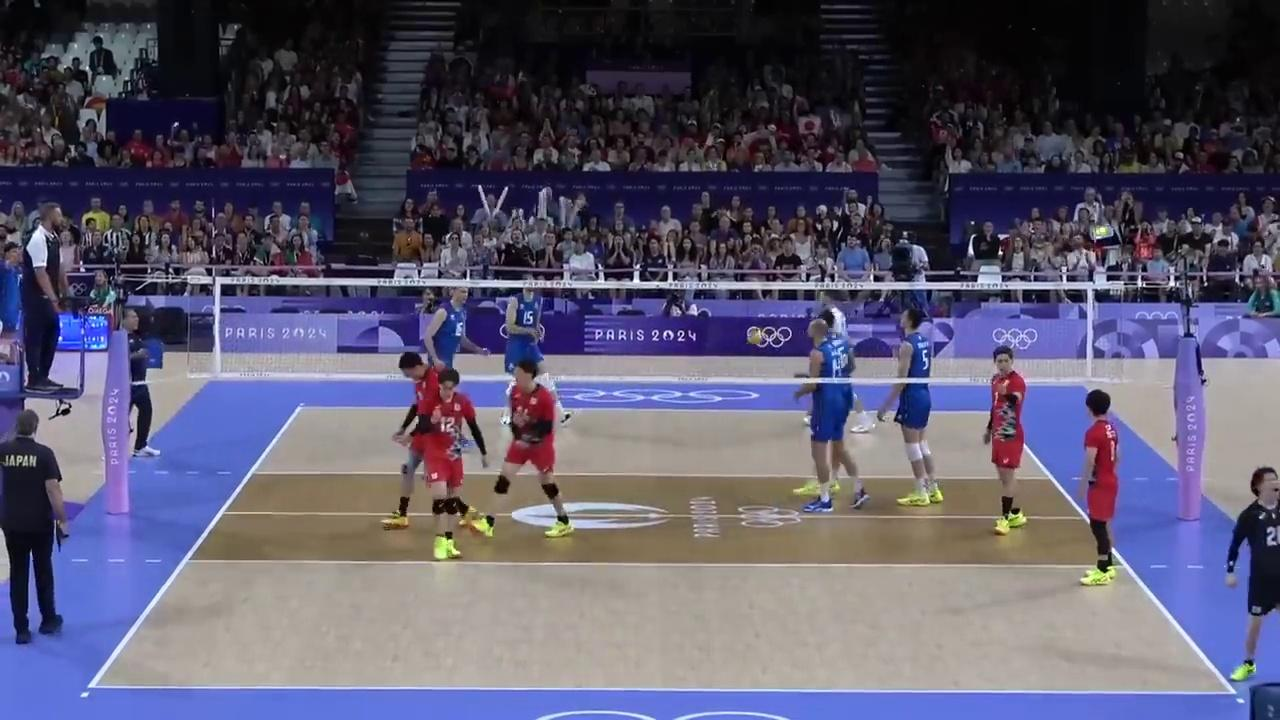ball: (747, 329, 762, 344)
